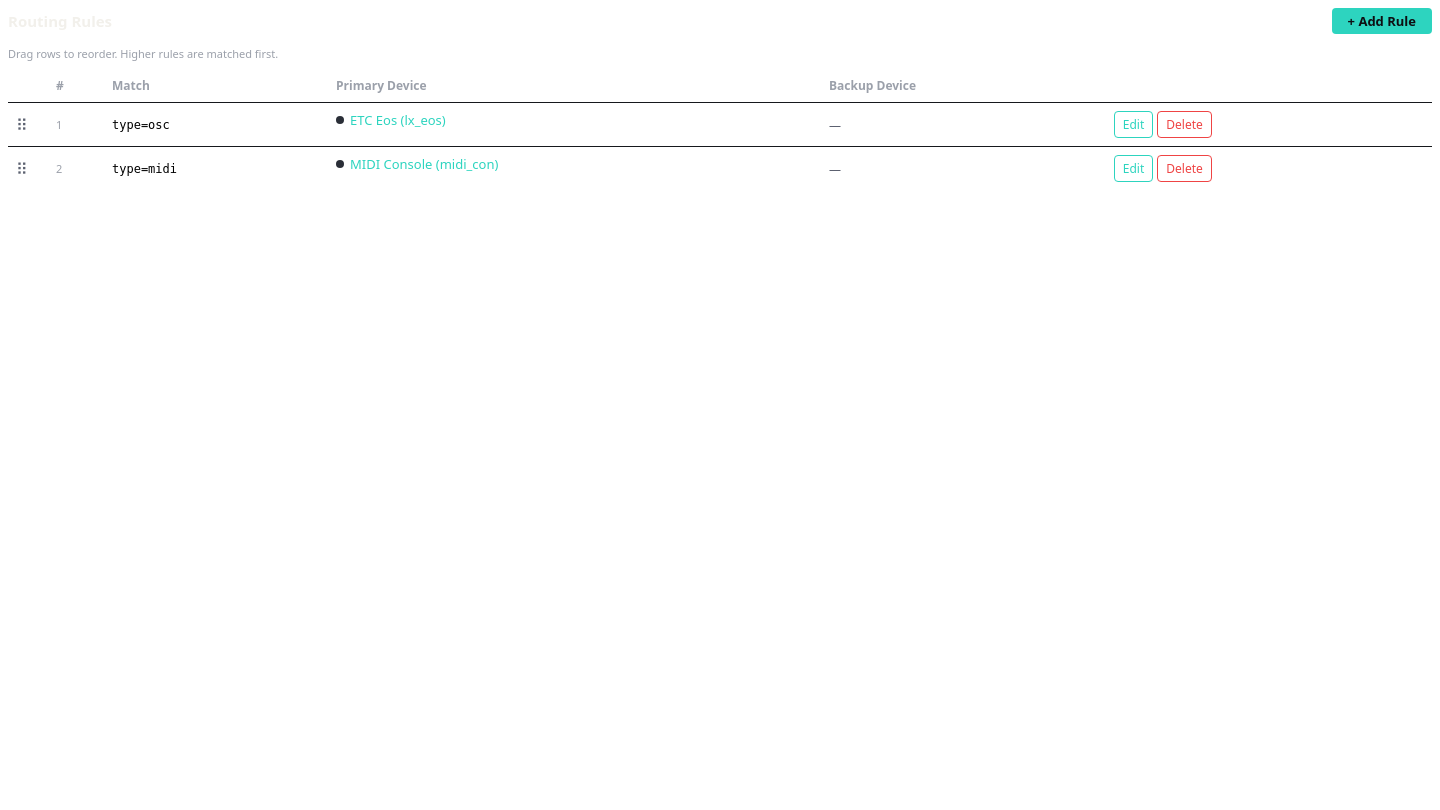
it: RoutingTable — delete confirmation › clicking Delete shows confirmation dialog
This screenshot has width=1440, height=810.
Click the button with aria-label "delete rule rule-1": (1185, 124) [1157,111,1212,138]
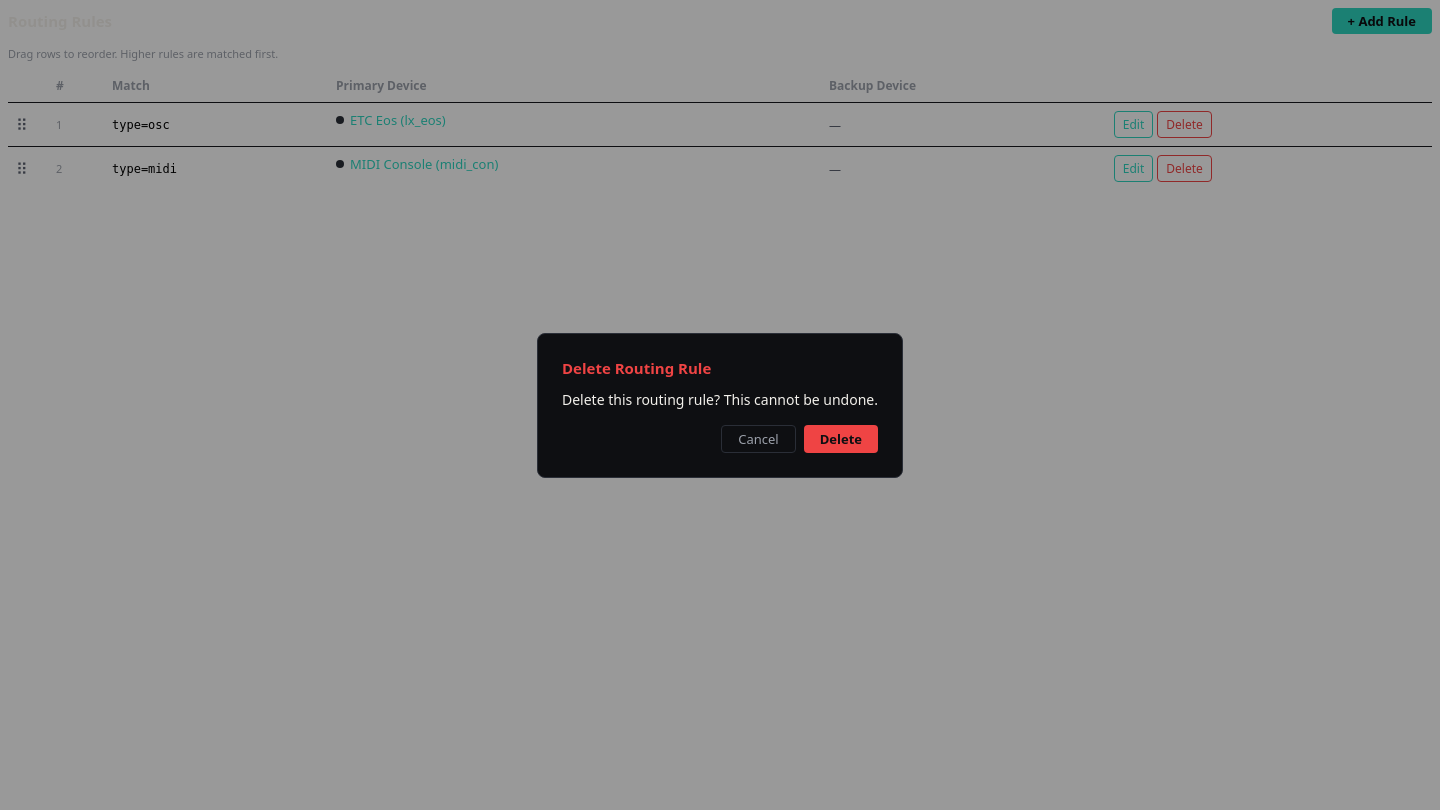
Check: the dialog named "confirm delete routing rule" is shown
